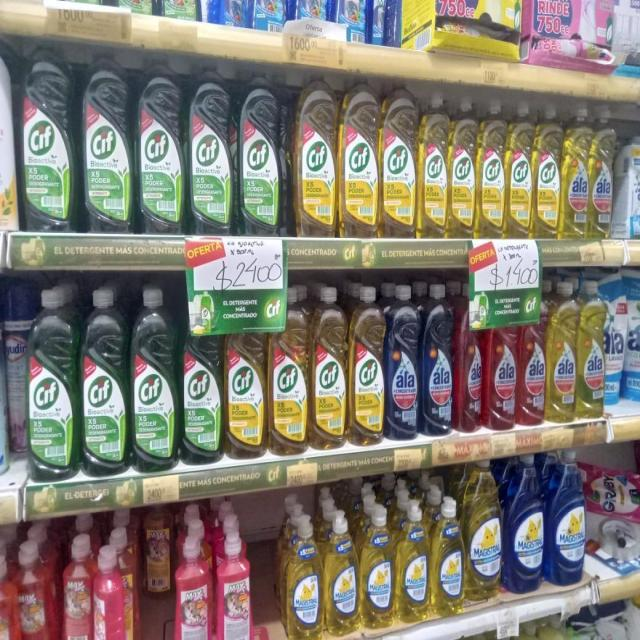ala_conc_amarillo: (547, 280, 577, 424), (578, 277, 605, 421), (562, 104, 588, 240), (589, 106, 613, 240)
ala_conc_azul: (386, 283, 419, 441), (421, 282, 453, 438)
ala_conc_rojo: (484, 288, 518, 432), (455, 281, 483, 434), (519, 282, 546, 429)
ala_crem_amarillo: (541, 616, 566, 640), (516, 622, 540, 640)
cif_conc_bot_amarilla: (294, 74, 336, 239), (269, 284, 309, 456), (339, 80, 379, 239), (225, 317, 267, 460), (311, 284, 347, 450), (349, 284, 385, 446), (381, 81, 417, 240), (418, 91, 447, 240), (448, 93, 476, 240), (477, 96, 505, 240), (533, 102, 561, 240), (506, 100, 532, 239)
cif_conc_botella_verde: (20, 42, 76, 234), (27, 286, 78, 483), (81, 51, 133, 235), (81, 287, 128, 477), (131, 286, 178, 473), (136, 54, 184, 236), (188, 63, 235, 236), (237, 69, 285, 237), (181, 292, 223, 466)
magistral_con_amarillo: (465, 460, 502, 604), (285, 514, 322, 640), (324, 510, 359, 637), (360, 502, 394, 630), (396, 499, 429, 624), (432, 496, 464, 617)
magistral_con_azul: (504, 454, 544, 594), (547, 449, 587, 587)
